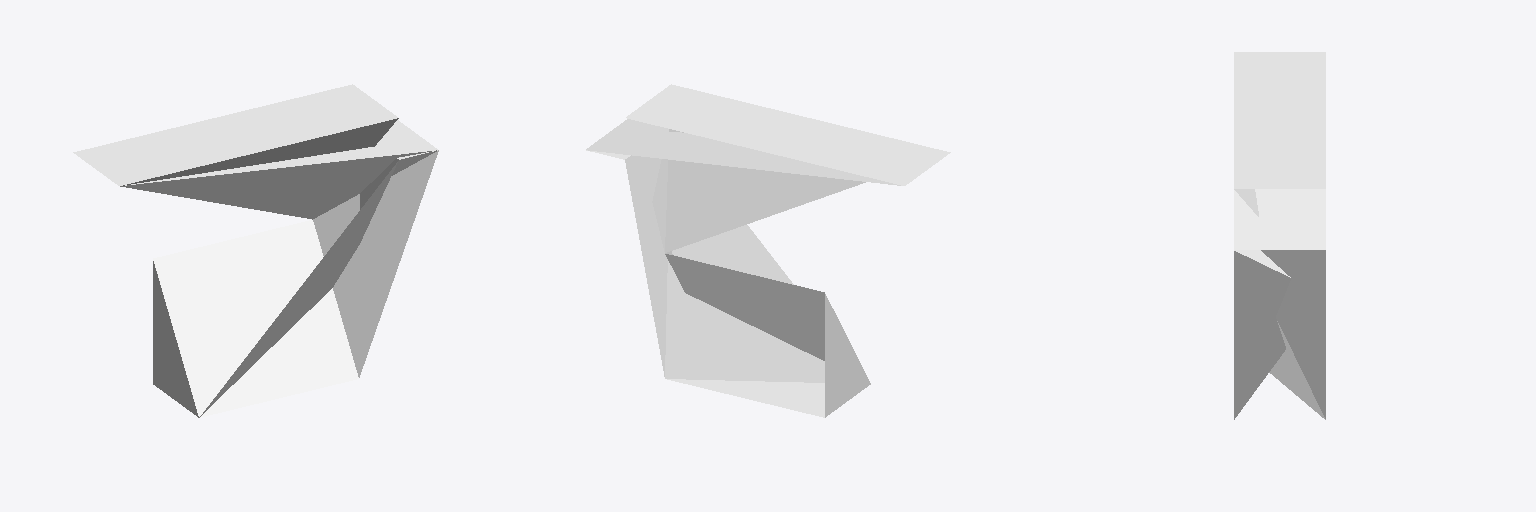
File: powerboost.obj
3 views of the same model, side by side, from view 1: azimuth 30°, elevation 25°; view 2: azimuth 150°, elevation 25°; view 3: azimuth 270°, elevation 25° (orthographic).
Size of the model in its own units: 8 by 6 by 2.